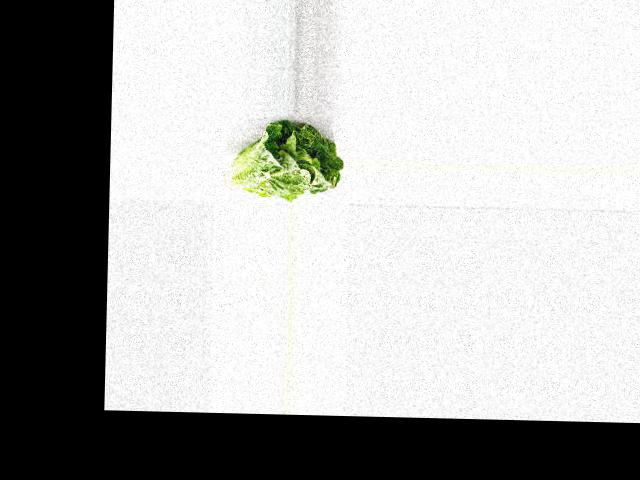lettuce: (225, 117, 343, 204)
